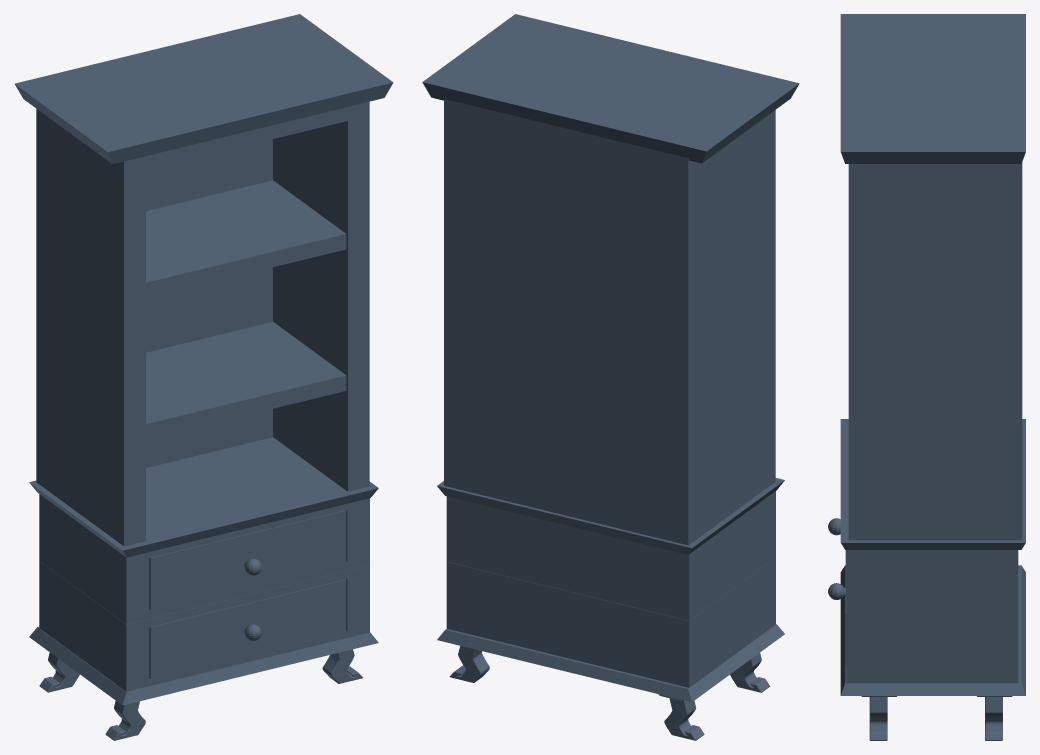
File: bookcase low.fbx
3 views of the same model, side by side, from view 1: azimuth 30°, elevation 25°; view 2: azimuth 150°, elevation 25°; view 3: azimuth 270°, elevation 25° (orthographic).
Parts seen in each view (by area): view 1: bookcase_09_low, bookcase_19_low, bookcase_08_low, bookcase_22_low, bookcase_20_low, bookcase_13_low, bookcase_12_low, bookcase_11_low, bookcase_10_low, bookcase_07_low, bookcase_05_low, bookcase_15_low (+1 smaller); view 2: bookcase_09_low, bookcase_19_low, bookcase_13_low, bookcase_12_low, bookcase_07_low, bookcase_08_low, bookcase_06_low, bookcase_17_low, bookcase_05_low; view 3: bookcase_09_low, bookcase_19_low, bookcase_13_low, bookcase_12_low, bookcase_07_low, bookcase_08_low, bookcase_15_low, bookcase_17_low.
Part boxes in pixels (bbox=[...]): bookcase_09_low: bbox=[36, 101, 369, 546]; bookcase_19_low: bbox=[14, 14, 393, 164]; bookcase_08_low: bbox=[29, 437, 378, 557]; bookcase_22_low: bbox=[146, 322, 346, 439]; bookcase_20_low: bbox=[146, 180, 346, 298]; bookcase_13_low: bbox=[39, 561, 369, 691]; bookcase_12_low: bbox=[39, 494, 369, 624]; bookcase_11_low: bbox=[149, 510, 346, 610]; bookcase_10_low: bbox=[149, 579, 346, 679]; bookcase_07_low: bbox=[29, 627, 378, 705]; bookcase_05_low: bbox=[105, 701, 145, 740]; bookcase_15_low: bbox=[322, 649, 362, 683]; bookcase_09_low: bbox=[444, 99, 775, 545]; bookcase_19_low: bbox=[422, 14, 799, 163]; bookcase_13_low: bbox=[446, 557, 775, 687]; bookcase_12_low: bbox=[446, 491, 775, 620]; bookcase_07_low: bbox=[437, 624, 784, 702]; bookcase_08_low: bbox=[437, 478, 784, 554]; bookcase_06_low: bbox=[664, 698, 704, 740]; bookcase_17_low: bbox=[449, 646, 489, 682]; bookcase_05_low: bbox=[730, 653, 769, 692]; bookcase_09_low: bbox=[848, 162, 1022, 540]; bookcase_19_low: bbox=[840, 14, 1025, 163]; bookcase_13_low: bbox=[846, 616, 1018, 683]; bookcase_12_low: bbox=[846, 550, 1018, 616]; bookcase_07_low: bbox=[840, 565, 1025, 695]; bookcase_08_low: bbox=[840, 419, 1025, 549]; bookcase_15_low: bbox=[869, 697, 887, 740]; bookcase_17_low: bbox=[985, 697, 1002, 740].
Bounding box in the file's own units: 79.43 × 160 × 48.17.
